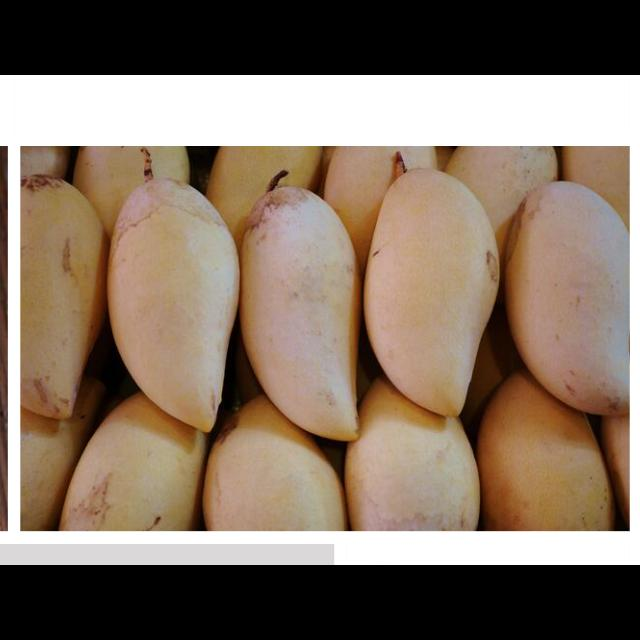mango: (362, 167, 499, 419), (234, 183, 364, 442), (107, 179, 239, 433), (512, 181, 630, 413)
